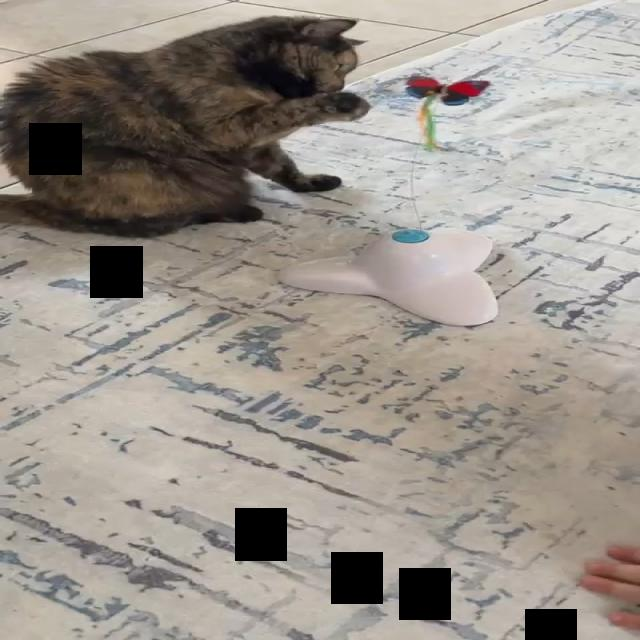authorized: (0, 14, 371, 238)
